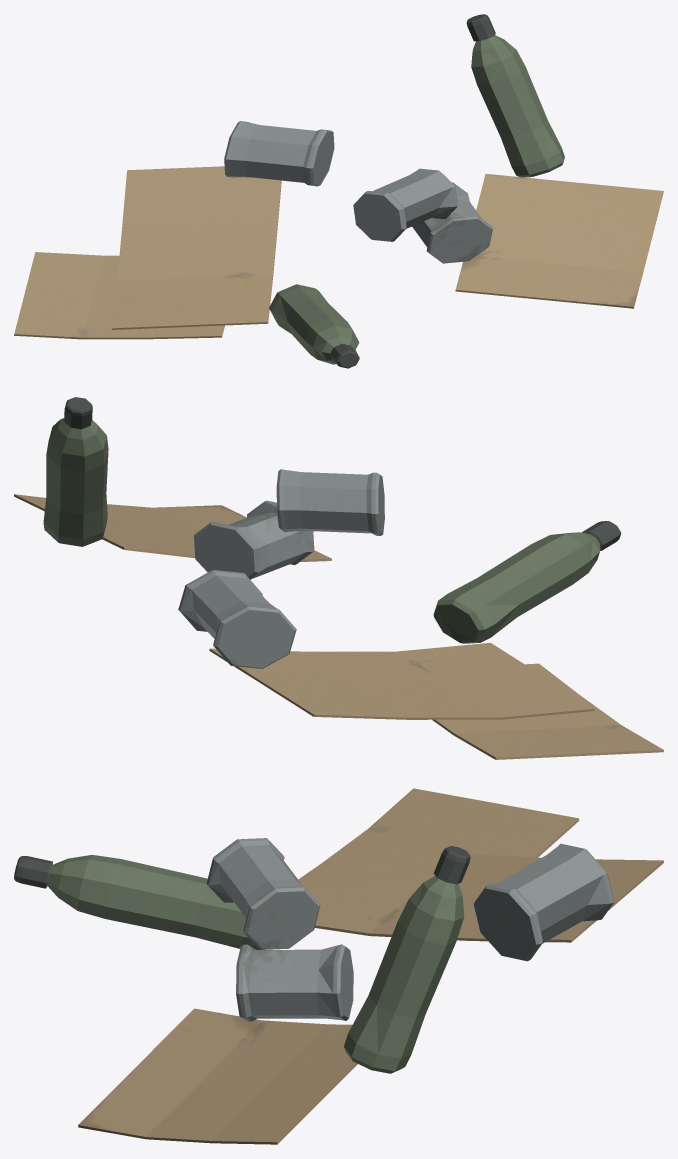
Rendered from river_bridge_litter_trash.glb.
3 views of the same model, one above another, from view 1: azimuth 30°, elevation 25°; view 2: azimuth 150°, elevation 25°; view 3: azimuth 270°, elevation 25° (orthographic). The views are drawn at different scales.
Parts seen in each view (by area): view 1: BridgeLitterTrash; view 2: BridgeLitterTrash; view 3: BridgeLitterTrash.
Part boxes in pixels (box(x1,y1,x2,y2)): BridgeLitterTrash: box(14, 14, 663, 368); BridgeLitterTrash: box(14, 397, 663, 759); BridgeLitterTrash: box(14, 788, 663, 1144).
Size of the model in its own units: 0.8 by 0.25 by 0.55.
1 material, 1 textured.
